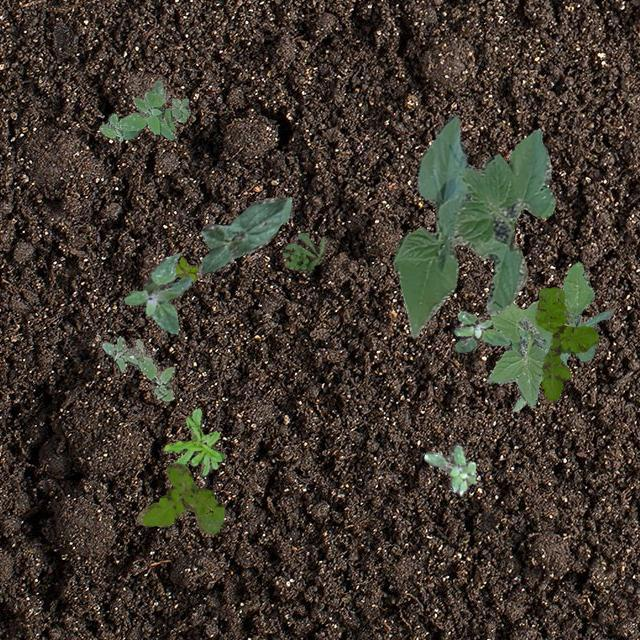crop: (392, 114, 554, 336), (512, 310, 610, 410), (198, 196, 290, 274)
weed: (486, 262, 596, 406), (534, 286, 598, 402), (136, 462, 224, 534), (122, 252, 192, 334), (98, 80, 190, 140), (100, 334, 173, 400), (162, 406, 224, 476), (422, 444, 476, 494), (454, 310, 509, 352), (282, 232, 326, 268), (175, 256, 198, 280)
